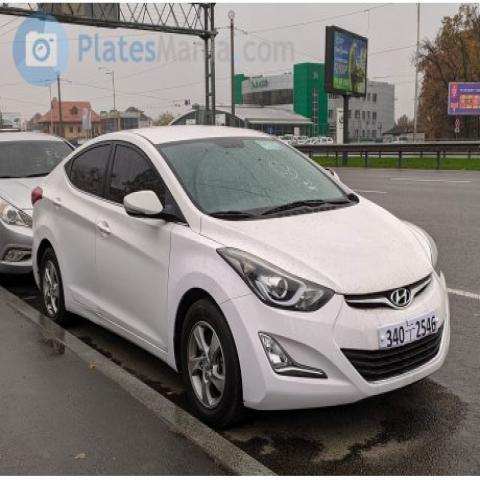LP: (374, 300, 446, 359)
